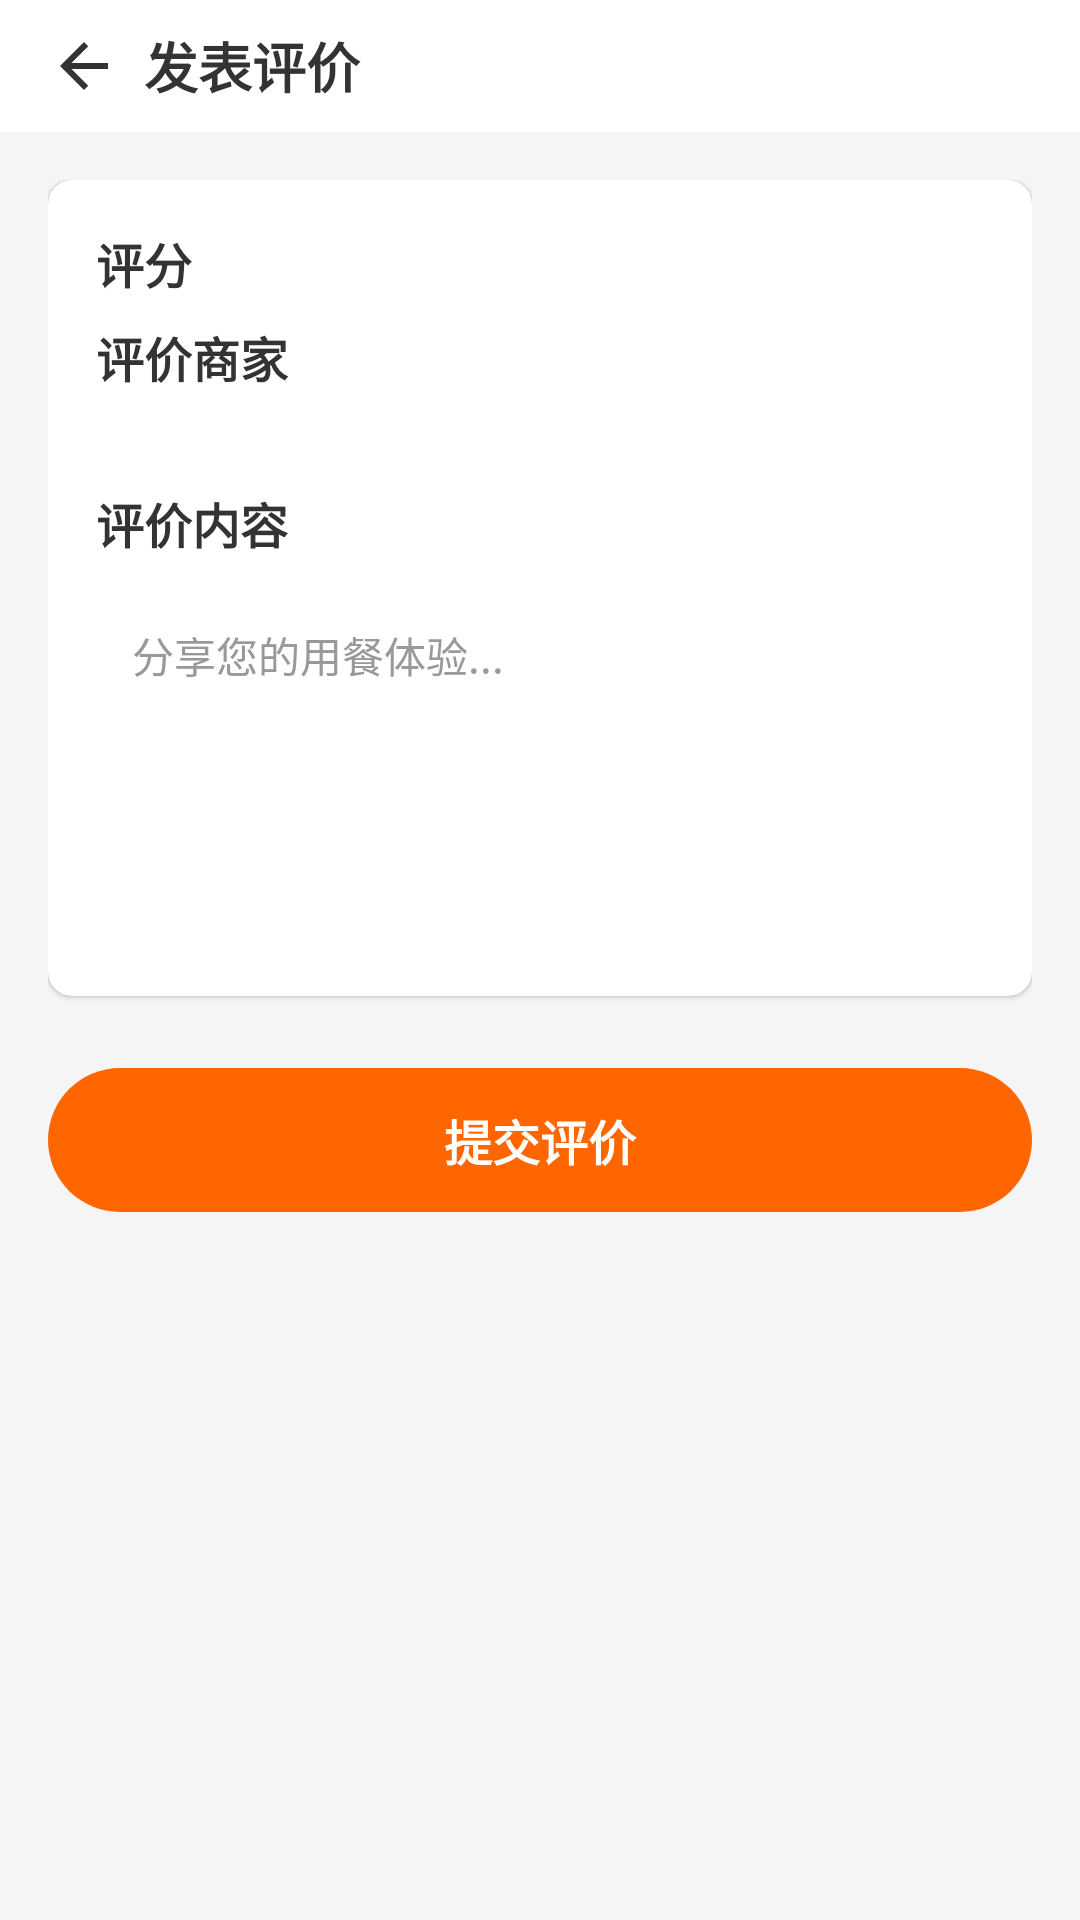

Locate icon controls on the screen. Image size 1080 x 1920, boxes as (x1, y1, x2, y2).
arrow back: (60, 42, 108, 90)
